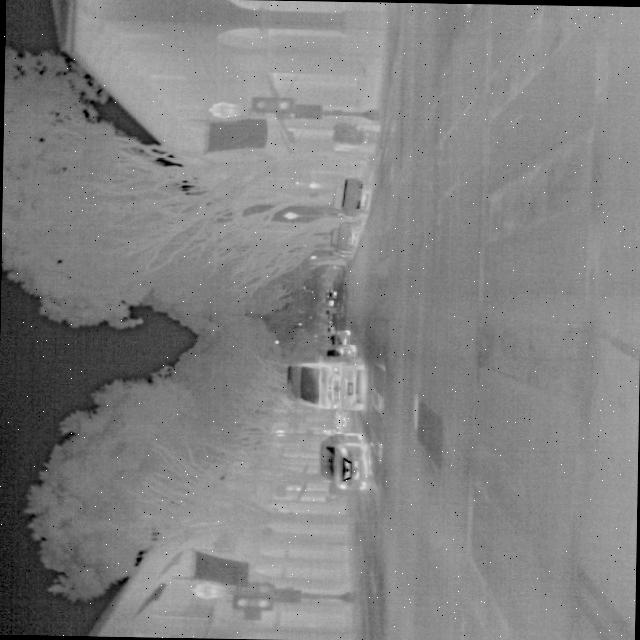Vehicle: (282, 351, 368, 412), (314, 430, 373, 491)
